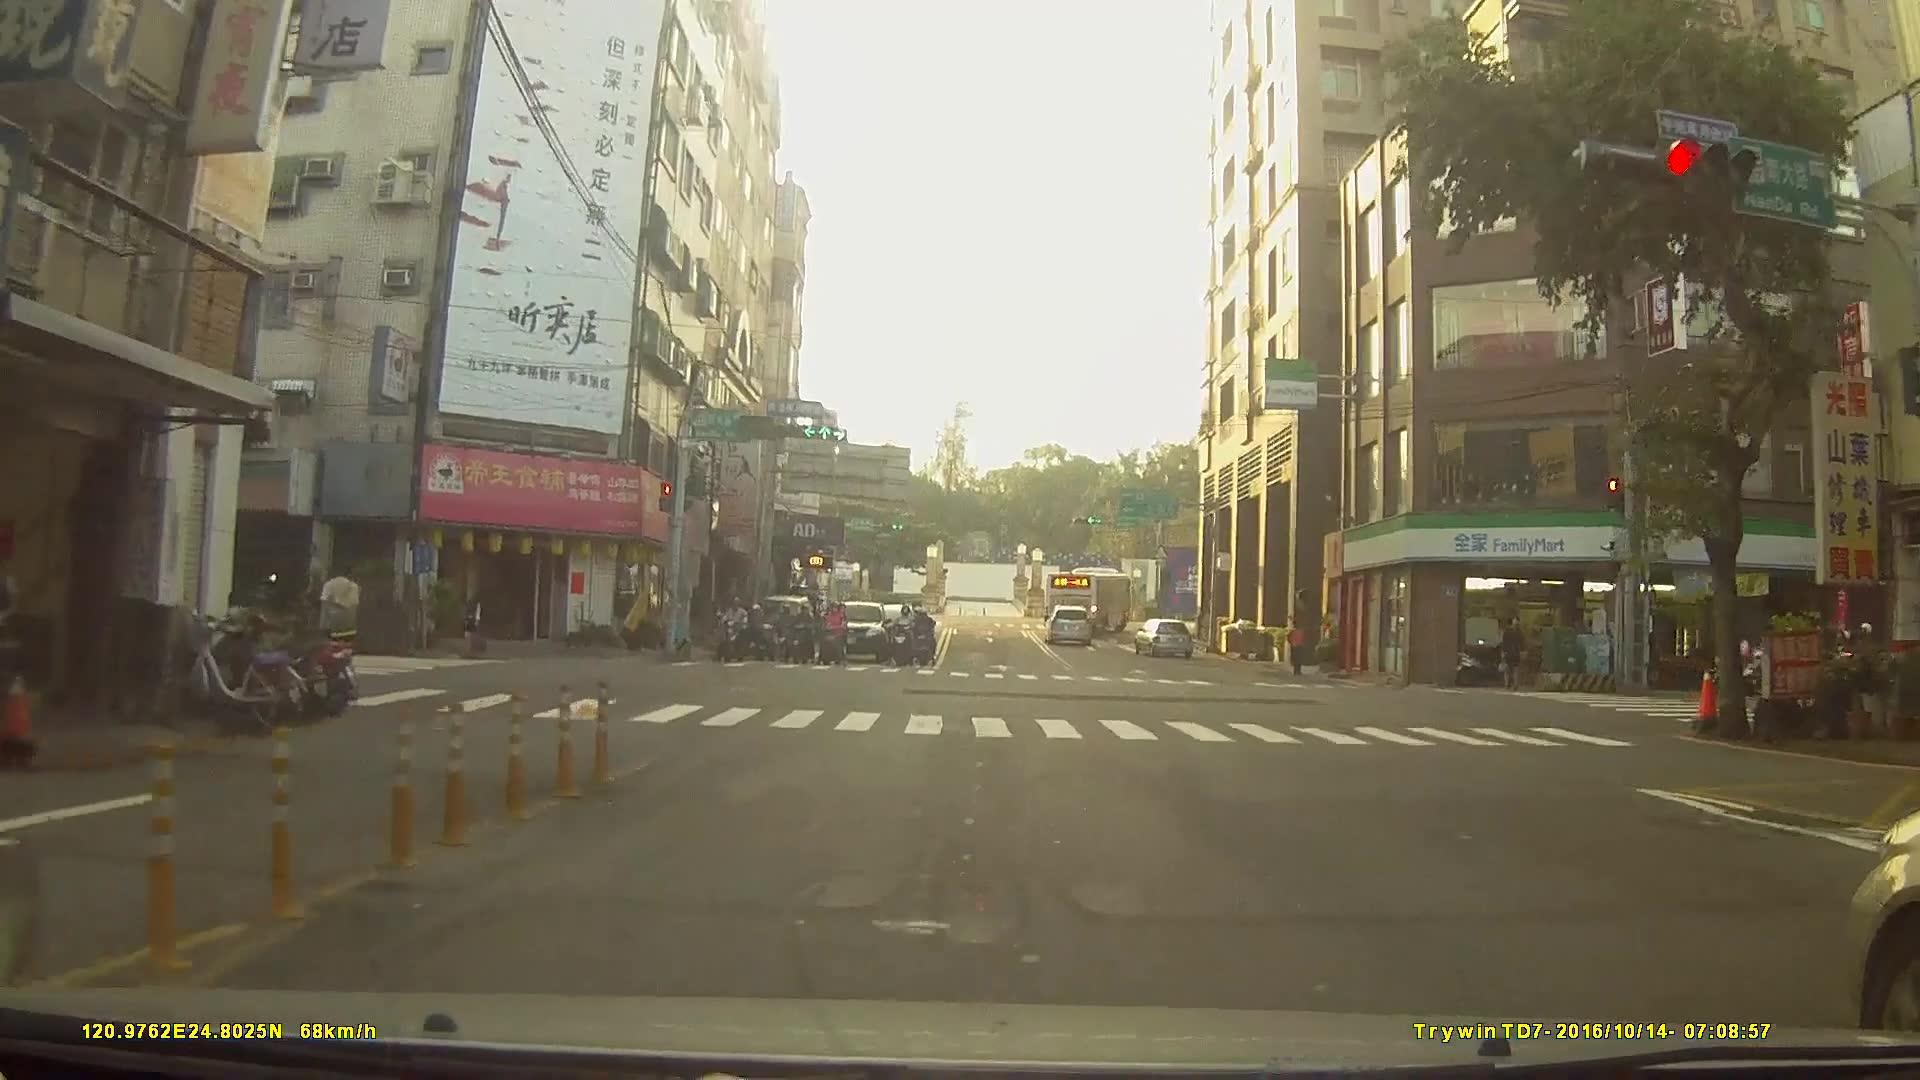pedestrian: (314, 550, 367, 682), (1500, 612, 1524, 689), (466, 597, 493, 658), (1287, 620, 1309, 677)
rider: (717, 597, 751, 665), (819, 602, 851, 672), (787, 607, 817, 665), (892, 604, 916, 670), (755, 594, 783, 652), (916, 604, 941, 666)
vehicle: (1043, 565, 1134, 628), (822, 594, 891, 662), (1132, 617, 1194, 657), (1045, 602, 1096, 644)
